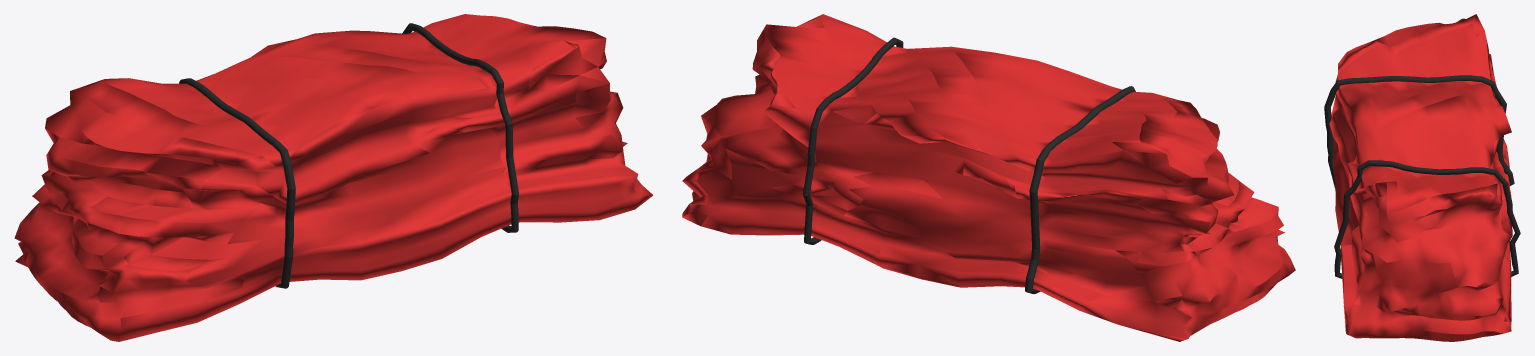
Rendered from SM_Tarpaulin_Red_D.fbx.
The picture shows the model from 3 angles, left to right: view 1: azimuth 30°, elevation 25°; view 2: azimuth 150°, elevation 25°; view 3: azimuth 270°, elevation 25°; orthographic projection. The views are drawn at different scales.
Parts seen in each view (by area): view 1: SM_Tarpaulin_Red_D; view 2: SM_Tarpaulin_Red_D; view 3: SM_Tarpaulin_Red_D.
Part boxes in pixels (x1,y1,x2,y2): SM_Tarpaulin_Red_D: (14,14,653,341); SM_Tarpaulin_Red_D: (682,14,1295,341); SM_Tarpaulin_Red_D: (1324,14,1520,341).
Size of the model in its own units: 169 by 51.96 by 64.74.
